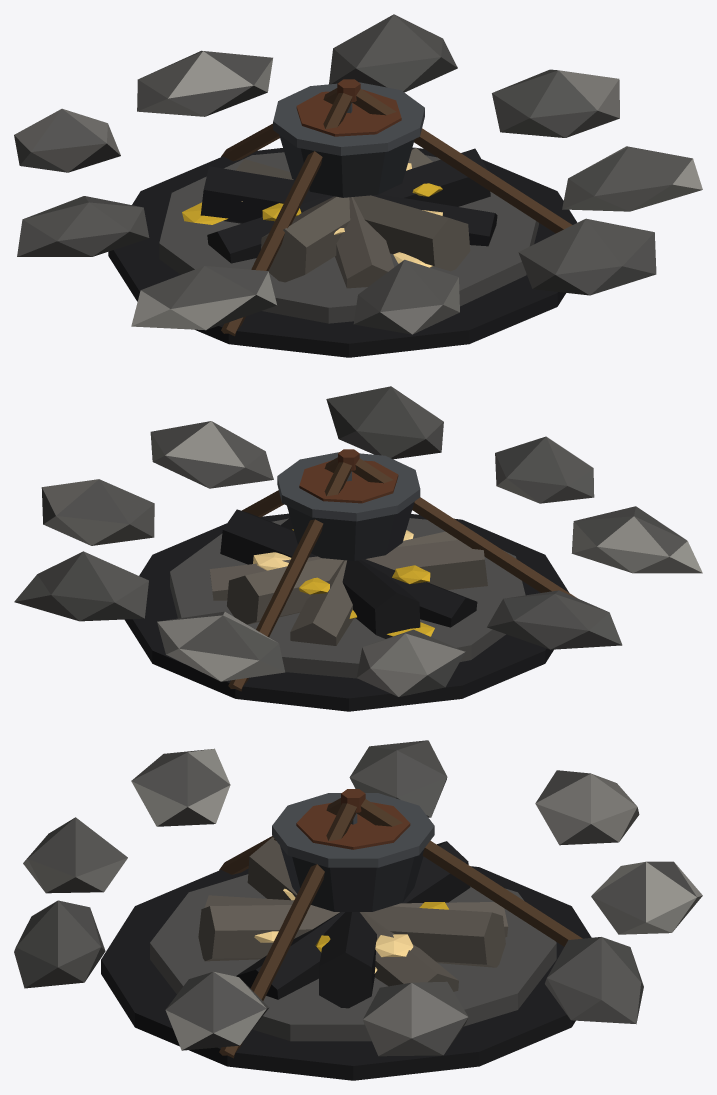
File: camp_fire.fbx
3 views of the same model, one above another, from view 1: azimuth 30°, elevation 25°; view 2: azimuth 150°, elevation 25°; view 3: azimuth 270°, elevation 25° (orthographic). The views are drawn at different scales.
Parts seen in each view (by area): view 1: camp_fire; view 2: camp_fire; view 3: camp_fire.
Boxes of the visible parts, x1,y1,x2,y2 form: camp_fire: [14, 14, 702, 357]; camp_fire: [14, 386, 702, 711]; camp_fire: [14, 740, 702, 1080].
Bounding box in the file's own units: 1.81 × 0.49 × 1.69.
